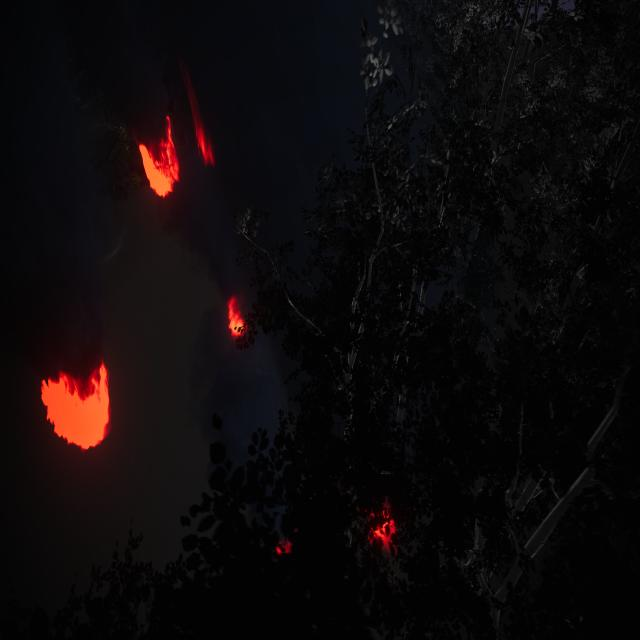Human: (212, 239, 256, 284)
